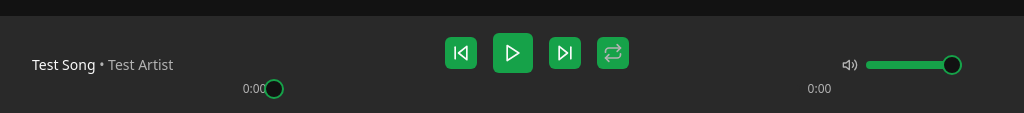
Test: AudioPlayer › handles loop mode toggle
The width and height of the screenshot is (1024, 113).
Click the button named "Loop off".
click(613, 53)  # box [597,37,629,69]
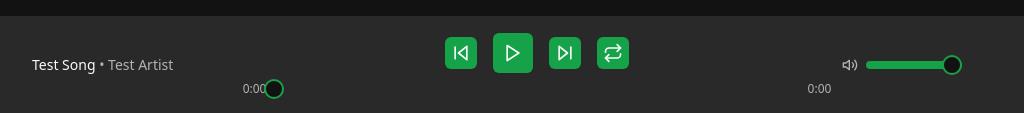
Check: the button named "Loop all" is shown
Click the button named "Loop all".
click(613, 53)  # box [597,37,629,69]
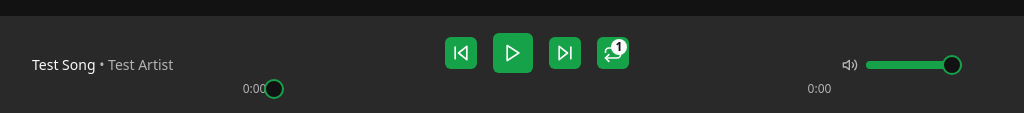
Check: the button named "Loop one" is shown
Click the button named "Loop one".
click(613, 53)  # box [597,37,629,69]
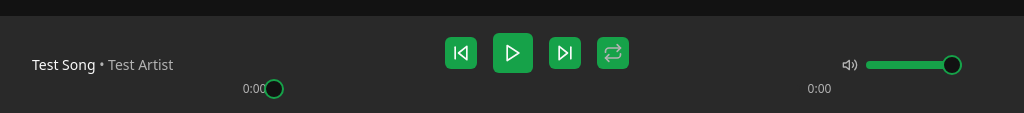
Check: the button named "Loop off" is shown, box [597,37,629,69]
